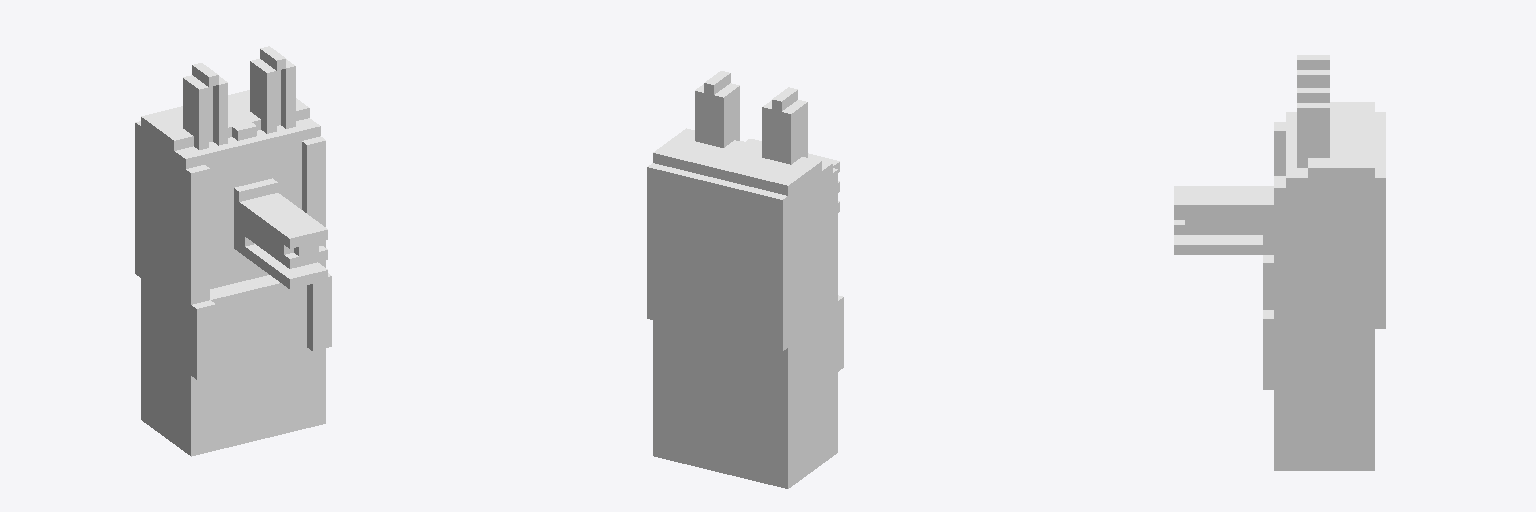
Rendered from Set-4.obj.
3 renders of one model, left to right at view 1: azimuth 30°, elevation 25°; view 2: azimuth 150°, elevation 25°; view 3: azimuth 270°, elevation 25°, orthographic.
Parts seen in each view (by area): view 1: object 1; view 2: object 1; view 3: object 1.
Part boxes in pixels (bbox=[...]): object 1: bbox=[135, 46, 331, 456]; object 1: bbox=[647, 71, 843, 488]; object 1: bbox=[1174, 55, 1385, 470].
Size of the model in its own units: 1.4 by 3.6 by 1.9.